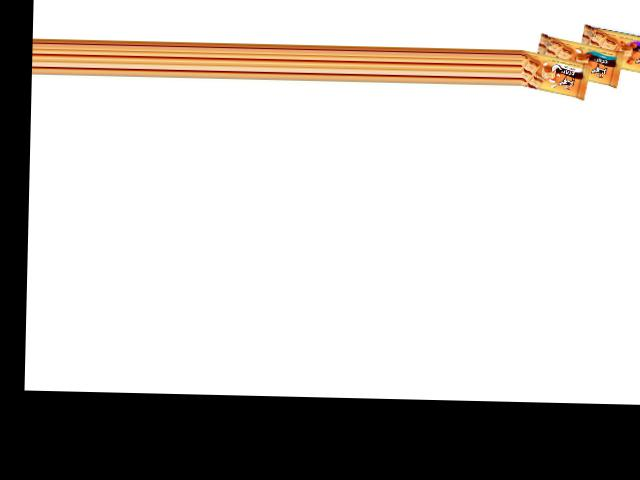chocolate: (574, 28, 640, 75)
